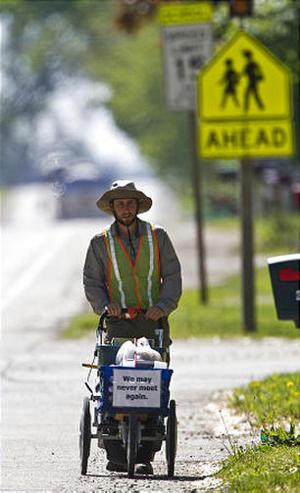person: (83, 178, 185, 472)
